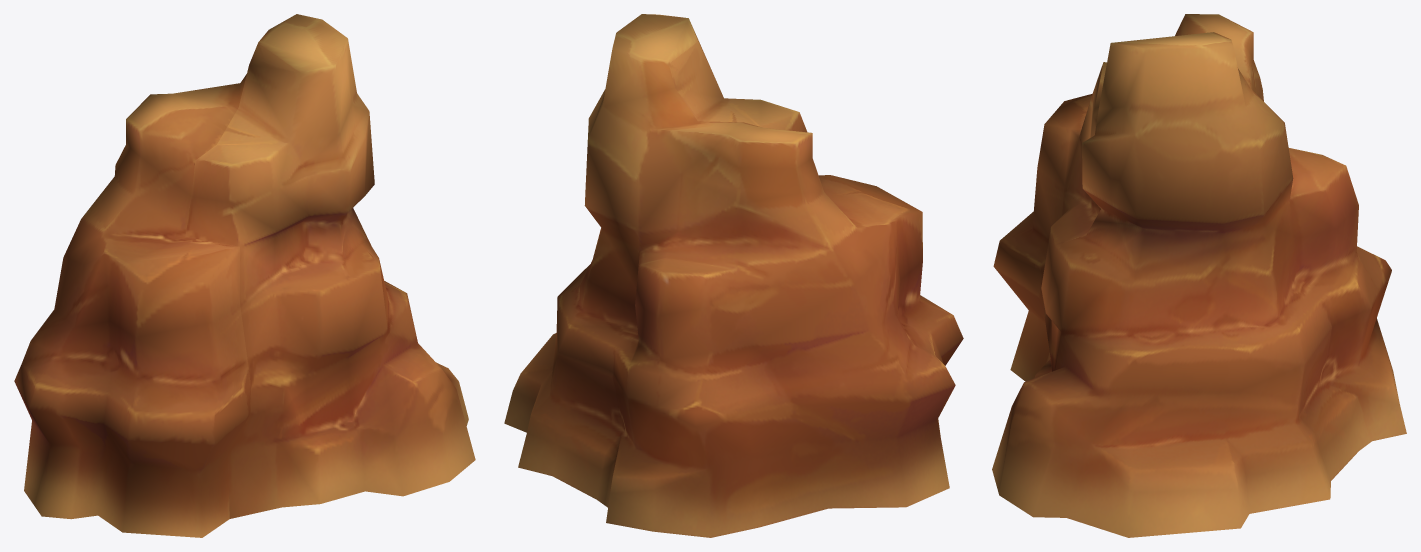
The model's file is huangyexingqiu_shitou10.FBX.
3 renders of one model, left to right at view 1: azimuth 30°, elevation 25°; view 2: azimuth 150°, elevation 25°; view 3: azimuth 270°, elevation 25°, orthographic. The views are drawn at different scales.
Visible parts, largest first — view 1: huangyexingqiu_shitou10; view 2: huangyexingqiu_shitou10; view 3: huangyexingqiu_shitou10.
Part boxes in pixels (left/top/right/bottom): huangyexingqiu_shitou10: left=14, top=14, right=475, bottom=537; huangyexingqiu_shitou10: left=504, top=14, right=963, bottom=537; huangyexingqiu_shitou10: left=992, top=14, right=1406, bottom=537.
Bounding box in the file's own units: 7525 × 6732 × 5882.
